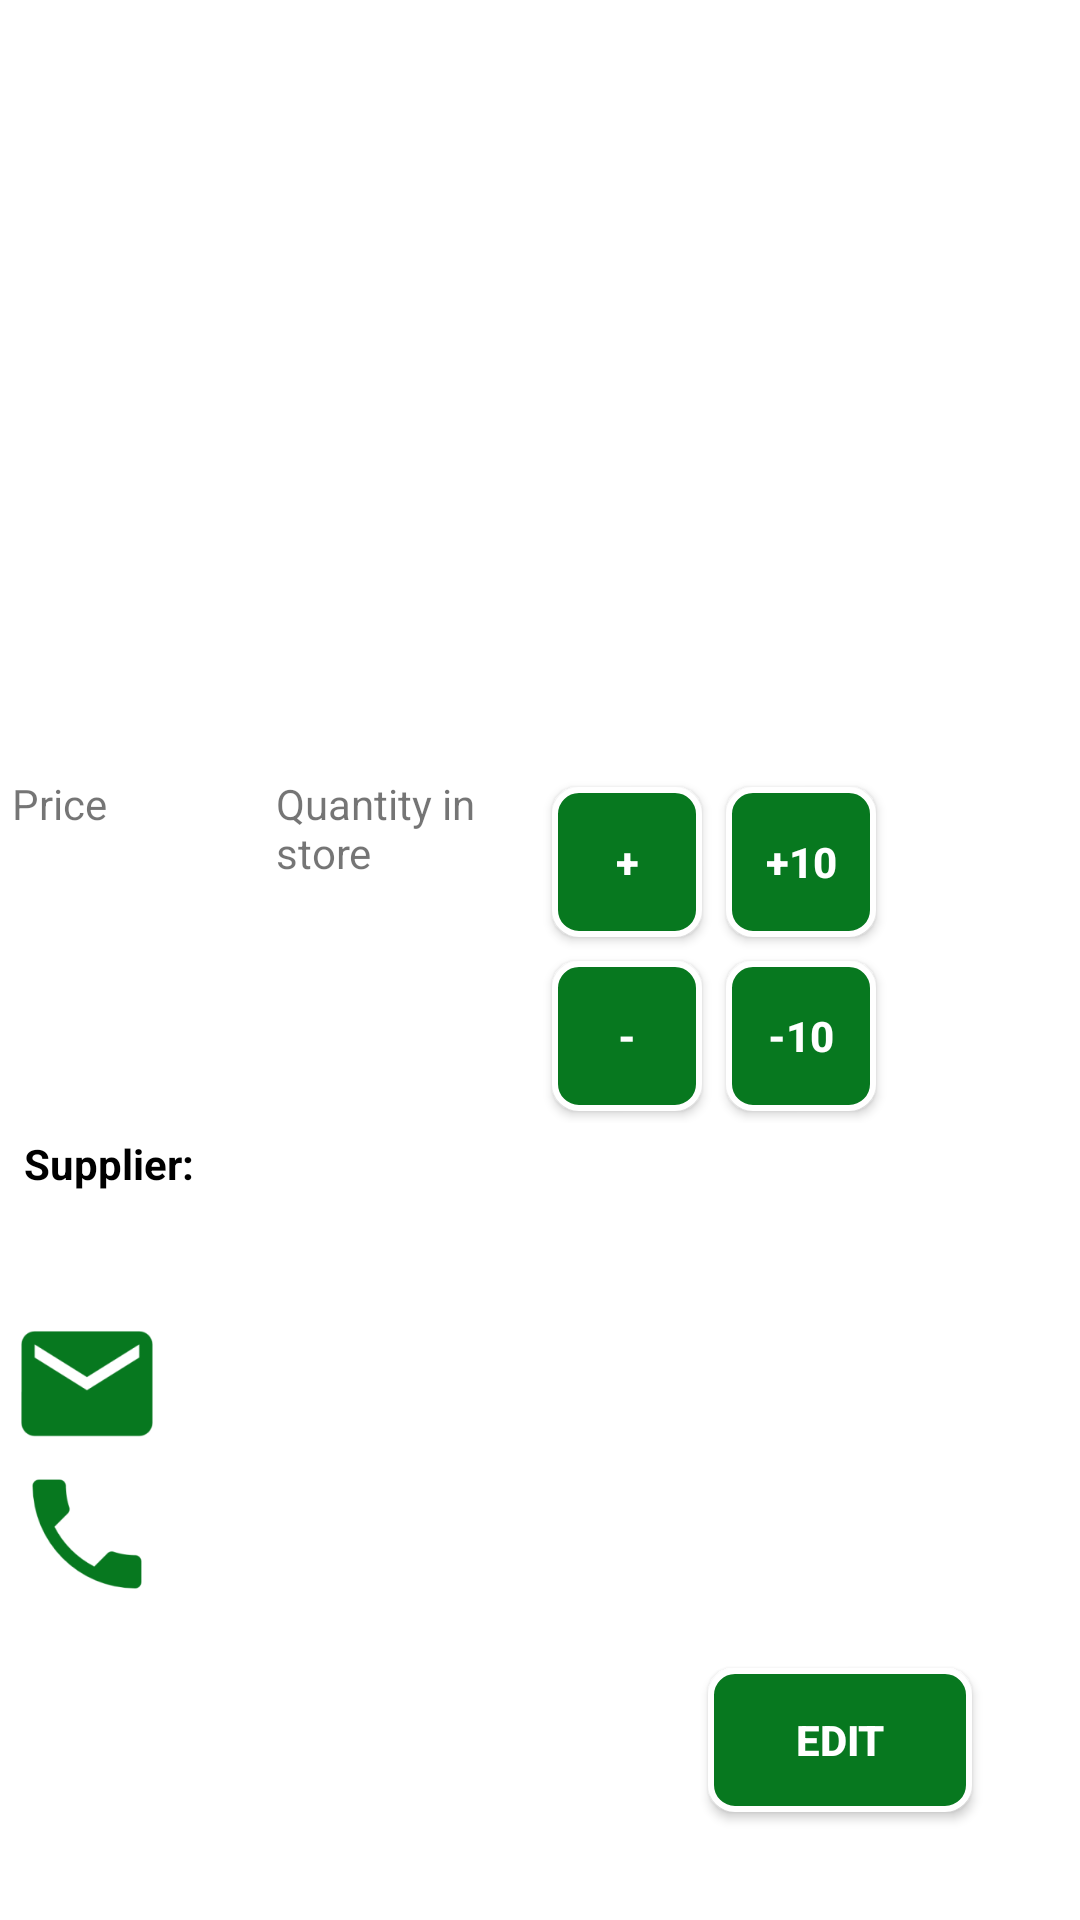

Screen size 1080×1920. Icon name, then its center in pixels as (x,y):
make call: (87,1534)
send email: (87,1384)
